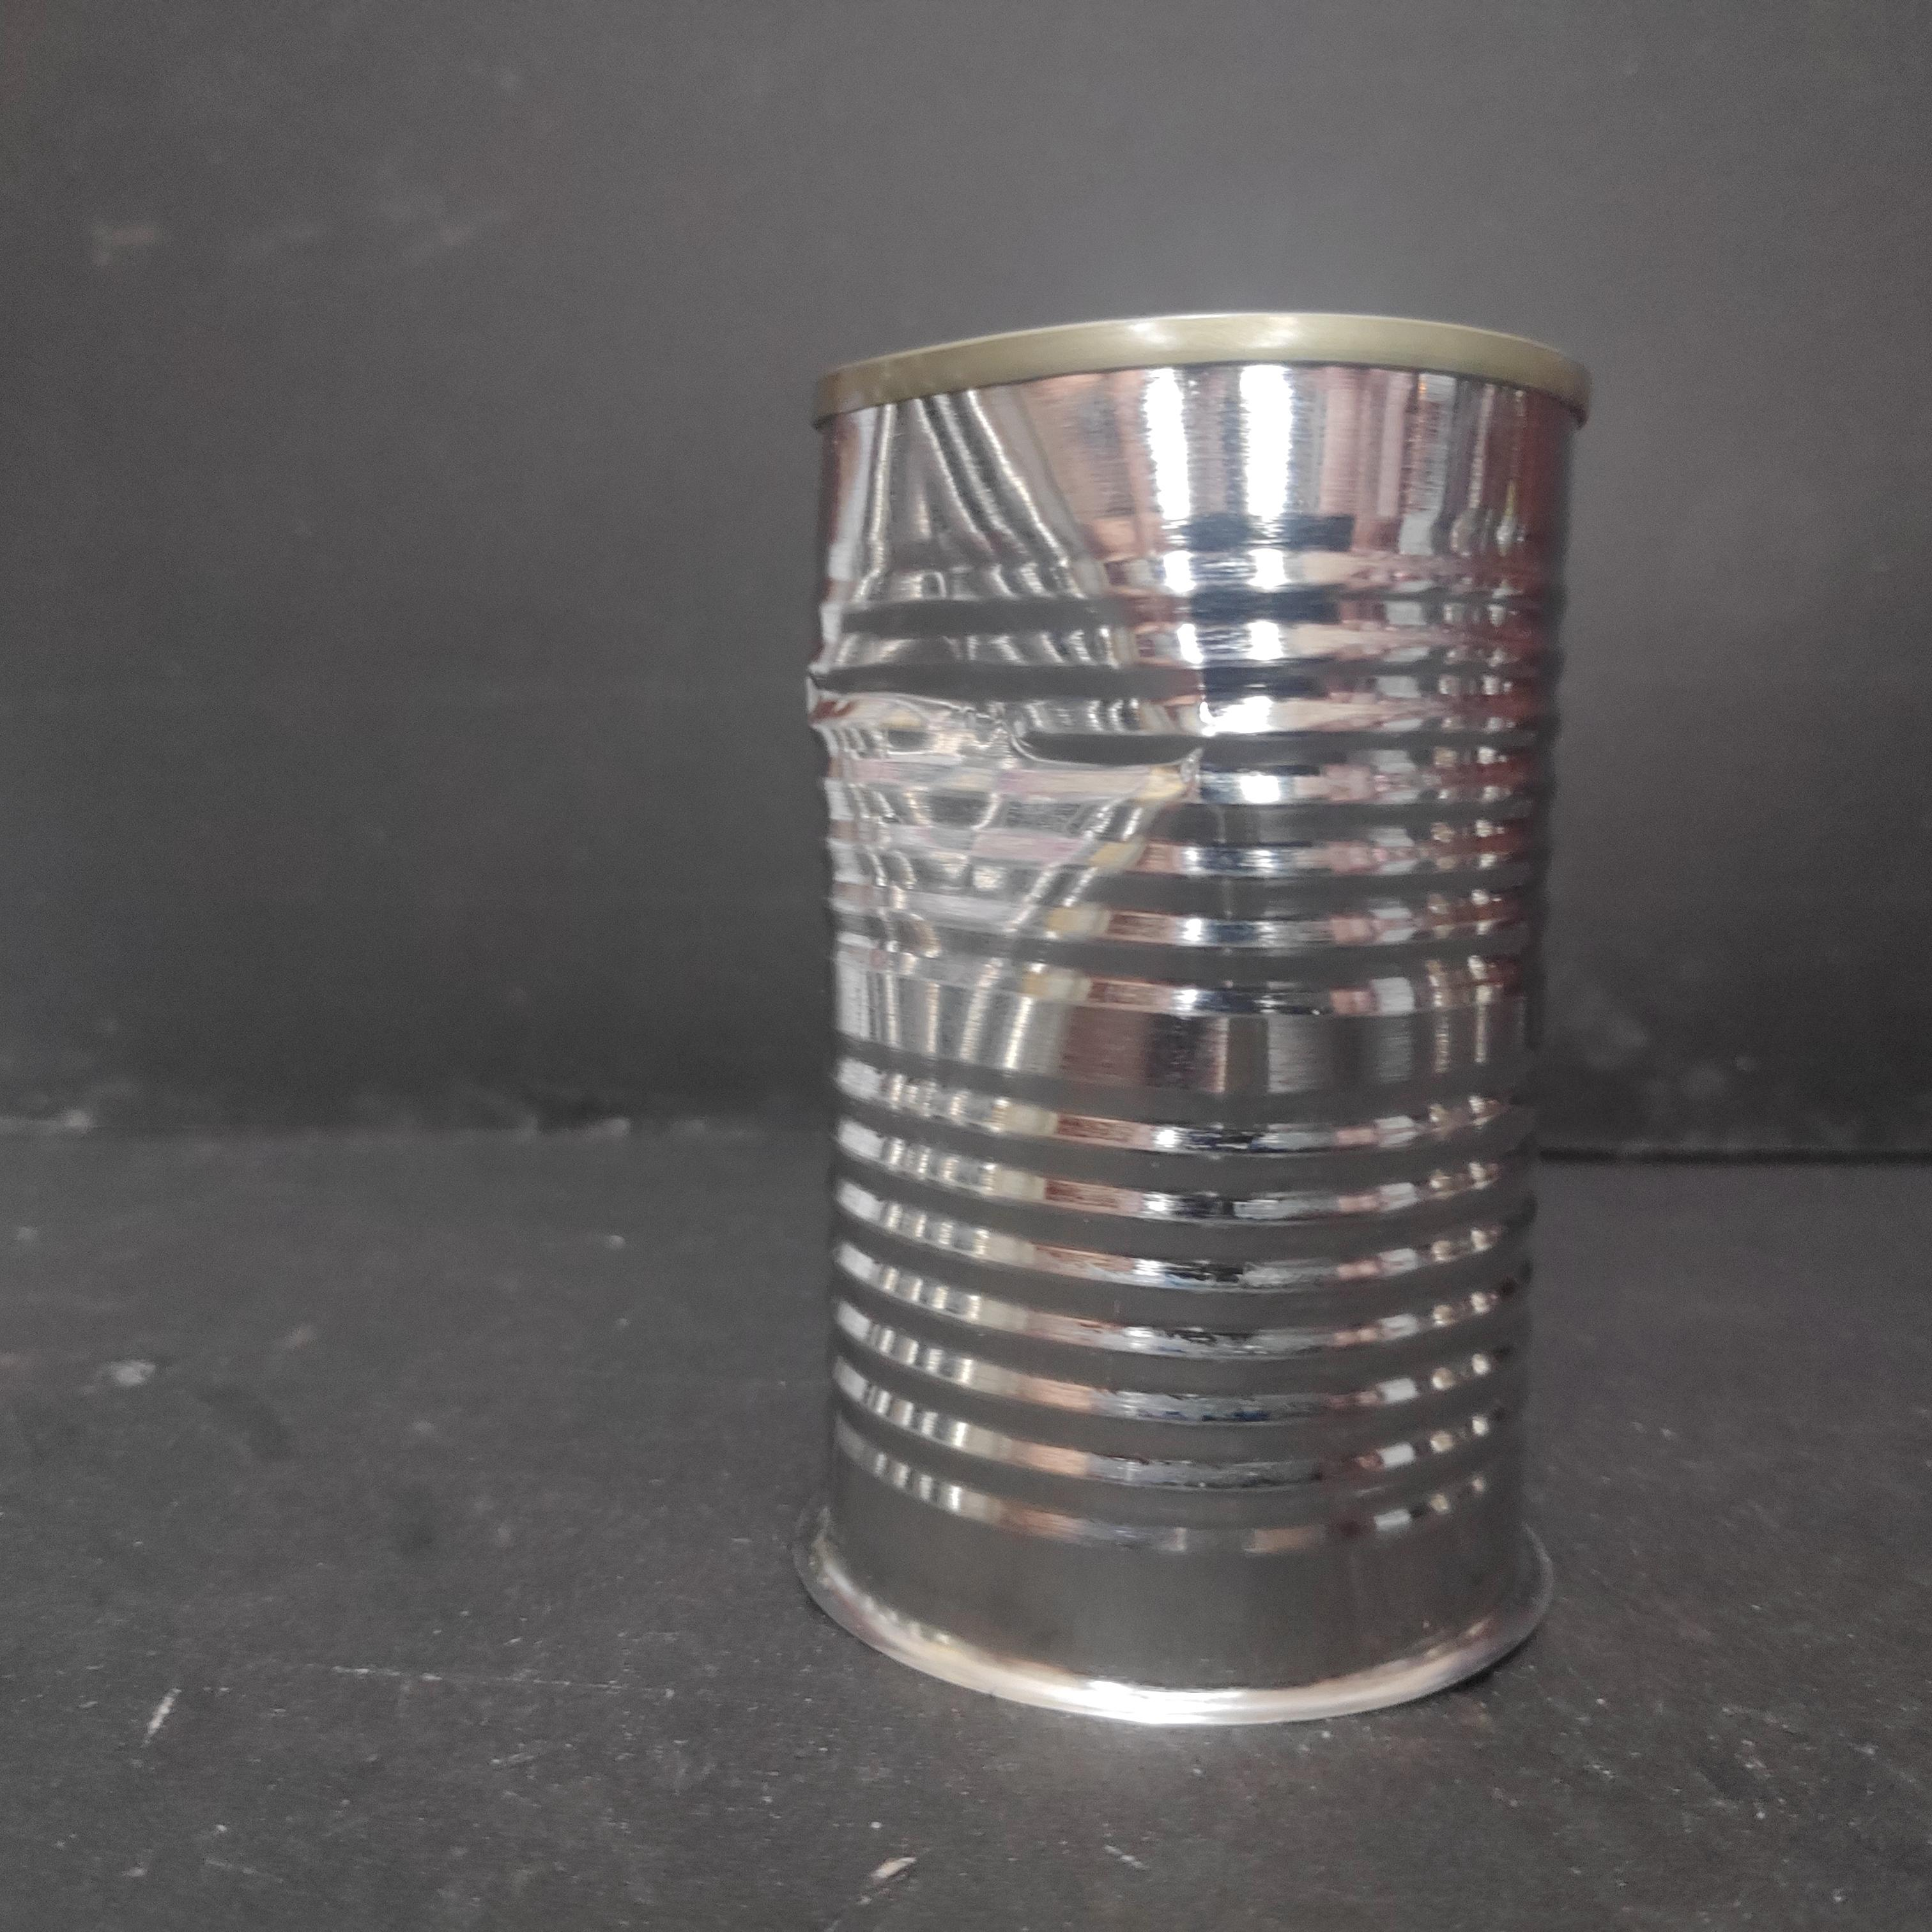Minor Defect: (793, 308, 1601, 1757)
